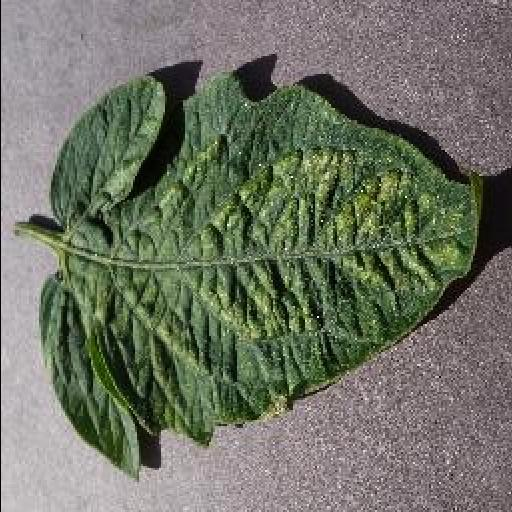disease_tomato: (38, 68, 482, 480)
